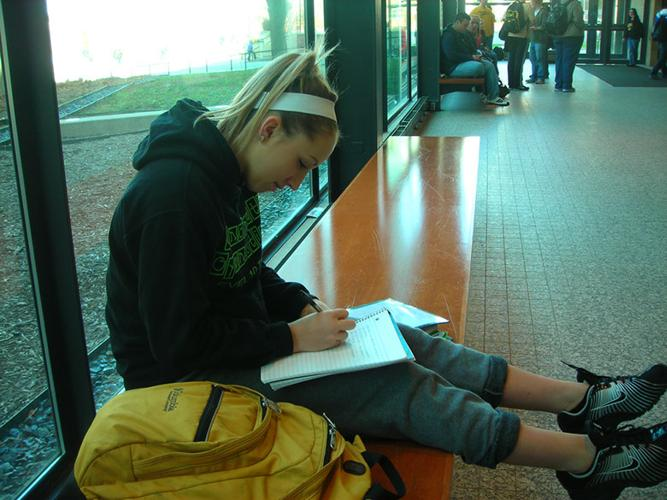person: (104, 51, 667, 500)
